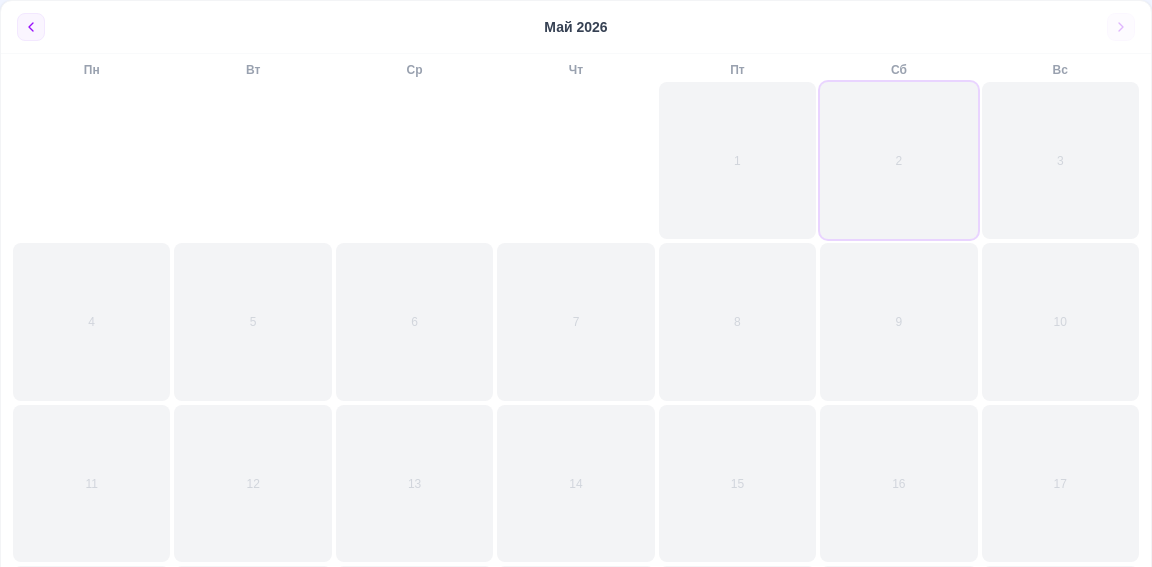
Test: HabitDetailCalendar › prev button navigates to April
This screenshot has width=1152, height=567.
Click the button named "предыдущий месяц": (31, 27) [17,13,45,41]
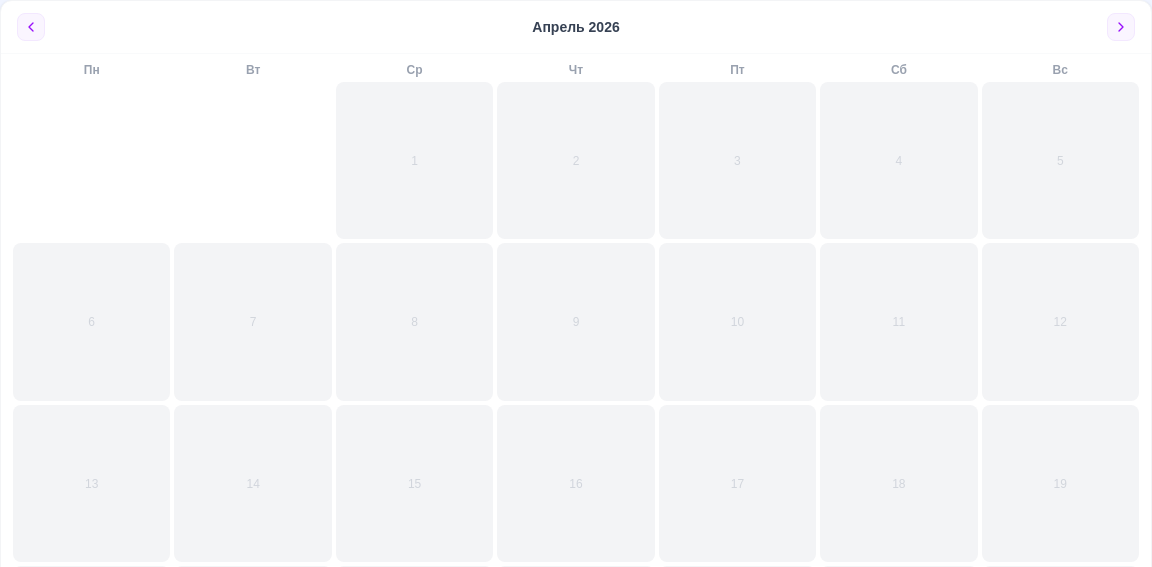
Now the text "апрель 2026" is shown, box [532,17,620,37]
